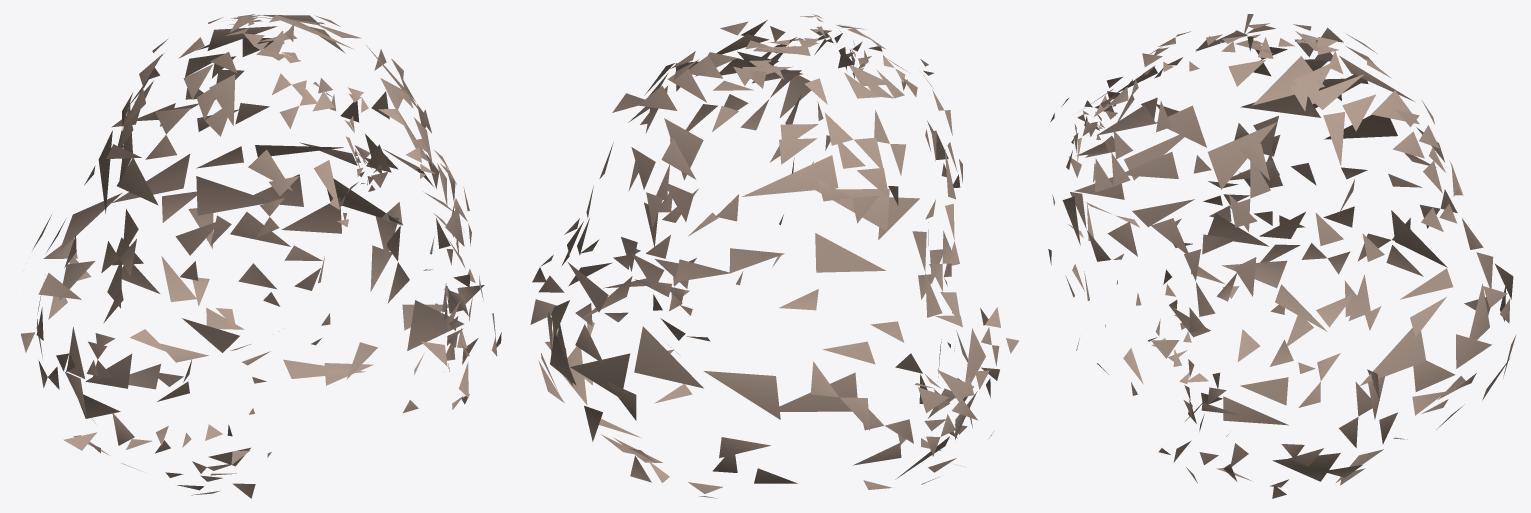
The model's file is female_hair_11_lod2.glb.
The picture shows the model from 3 angles, left to right: view 1: azimuth 30°, elevation 25°; view 2: azimuth 150°, elevation 25°; view 3: azimuth 270°, elevation 25°; orthographic projection. The views are drawn at different scales.
Parts seen in each view (by area): view 1: female-hair-11; view 2: female-hair-11; view 3: female-hair-11.
Part boxes in pixels (left/top/right/bottom): female-hair-11: left=21, top=14, right=501, bottom=498; female-hair-11: left=530, top=14, right=1018, bottom=498; female-hair-11: left=1048, top=14, right=1516, bottom=498.
Size of the model in its own units: 0.2494 by 0.2318 by 0.2448.
